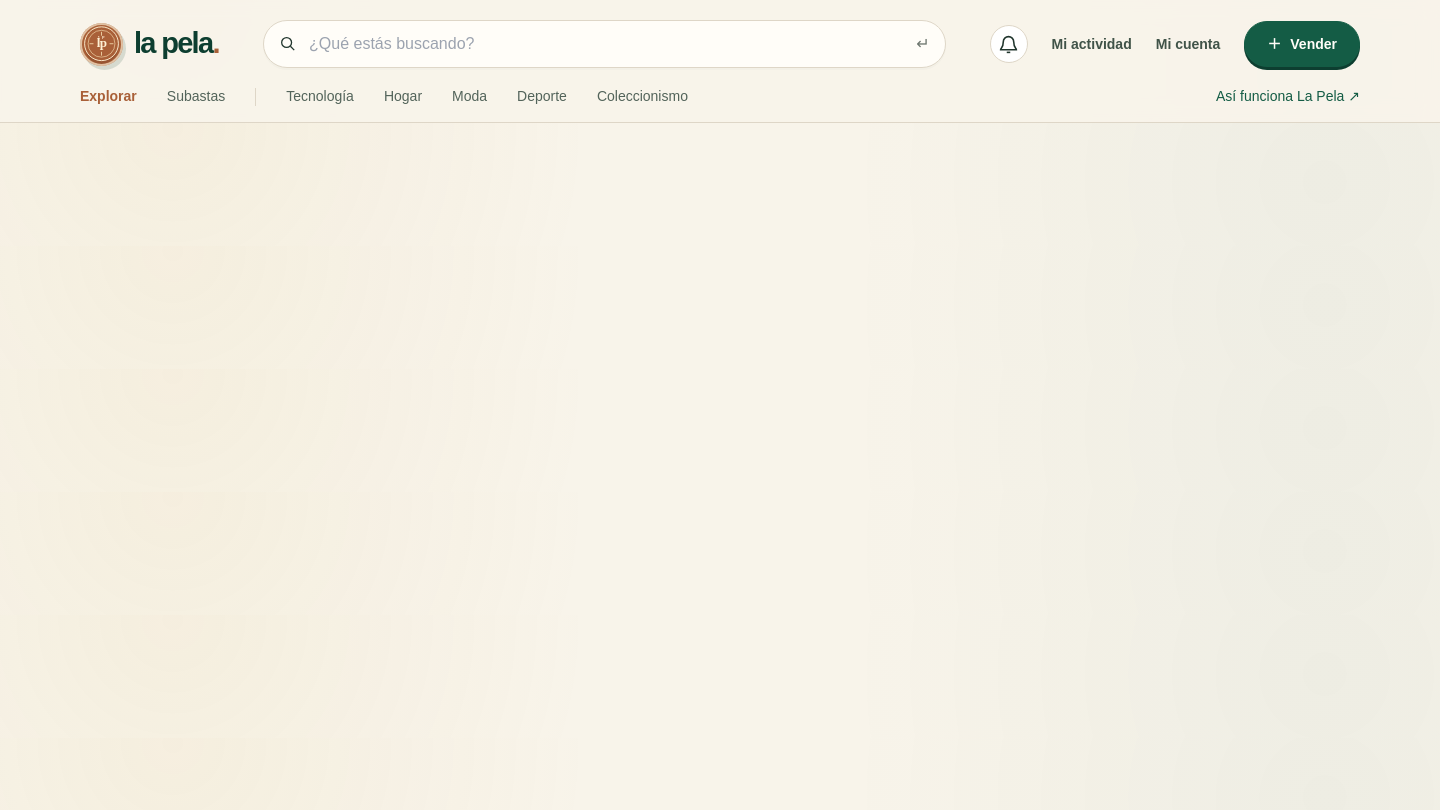
Header notifications › does not show mark all option when there are no unread notifications
Click the button named "No tienes novedades sin leer" at (1009, 44), box [990,25,1028,63]
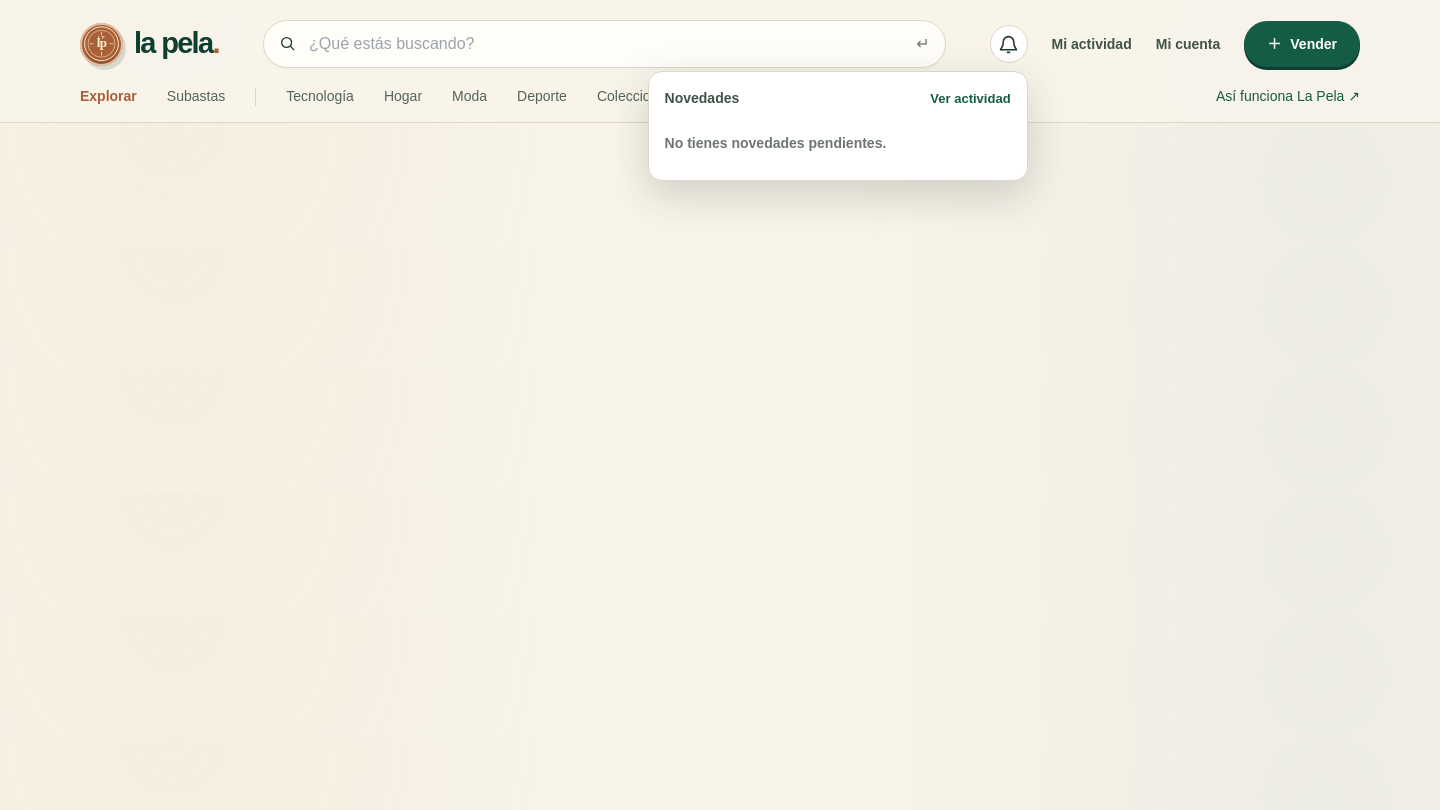
expect the text "No tienes novedades pendientes." is shown: met, box [665,135,886,151]
